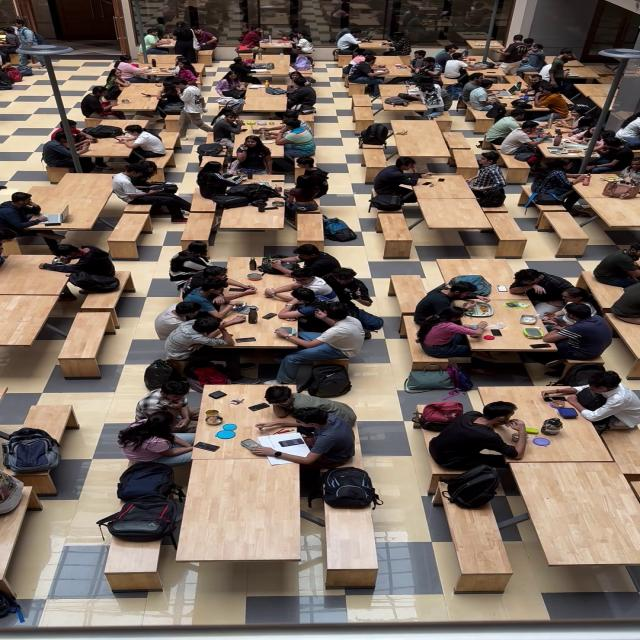Occupied: (390, 264, 582, 314), (372, 71, 518, 136), (435, 297, 580, 359), (190, 384, 305, 460), (251, 405, 356, 472), (429, 404, 525, 472), (167, 338, 349, 372), (552, 369, 640, 435), (257, 383, 357, 432), (117, 412, 199, 469), (110, 165, 190, 222), (428, 461, 536, 501), (40, 244, 117, 291), (2, 429, 55, 496), (136, 380, 201, 431), (508, 137, 584, 180), (57, 320, 111, 380), (138, 58, 202, 108), (78, 136, 150, 179), (0, 256, 73, 296), (268, 244, 340, 282), (86, 116, 175, 146), (169, 242, 237, 281), (372, 156, 434, 198), (182, 278, 256, 312), (378, 89, 442, 128), (42, 129, 100, 172), (0, 193, 53, 240), (531, 162, 584, 209), (196, 161, 251, 202), (320, 265, 374, 305), (280, 170, 326, 216), (498, 122, 552, 160), (466, 155, 507, 205), (489, 92, 552, 124), (101, 90, 164, 121), (273, 119, 315, 165), (510, 70, 557, 111), (230, 136, 274, 176), (482, 112, 530, 146), (241, 83, 291, 114), (410, 336, 467, 363), (80, 87, 123, 121), (292, 358, 350, 383), (416, 401, 464, 431), (153, 80, 186, 121), (214, 71, 251, 106), (554, 362, 606, 386), (226, 257, 275, 282), (284, 80, 318, 116), (212, 110, 247, 144), (539, 53, 572, 89), (511, 43, 547, 76), (534, 88, 572, 119), (114, 55, 155, 83), (49, 120, 89, 148), (228, 58, 267, 86), (460, 75, 493, 108), (68, 272, 120, 292), (6, 18, 40, 48), (499, 35, 531, 64), (166, 58, 199, 86), (450, 275, 492, 297), (323, 216, 357, 242), (350, 52, 383, 78), (466, 67, 511, 85), (576, 387, 608, 412), (473, 186, 506, 208), (442, 55, 471, 80), (562, 66, 602, 84), (192, 366, 229, 385), (336, 25, 362, 52), (434, 45, 462, 70), (191, 27, 218, 52), (241, 120, 283, 136), (360, 123, 390, 145), (304, 173, 330, 198), (257, 40, 297, 56), (0, 28, 21, 58), (245, 184, 281, 201), (214, 194, 252, 210), (409, 50, 434, 74), (420, 86, 445, 110), (238, 27, 264, 50), (369, 194, 404, 211), (140, 68, 179, 83), (142, 30, 165, 54), (82, 125, 124, 138), (259, 254, 291, 271), (289, 33, 313, 54), (356, 42, 392, 56), (464, 40, 502, 52), (387, 38, 412, 56), (285, 199, 319, 212), (484, 102, 508, 120), (442, 85, 462, 106), (147, 18, 167, 38), (275, 30, 299, 46), (23, 29, 47, 45), (197, 142, 224, 156), (104, 71, 122, 91), (410, 72, 440, 84), (149, 183, 179, 195), (222, 100, 245, 115), (384, 95, 415, 106), (335, 42, 359, 56), (2, 66, 22, 82), (498, 61, 520, 75), (293, 56, 313, 71), (294, 104, 317, 116), (221, 88, 246, 99), (162, 102, 184, 114), (406, 85, 424, 99), (396, 93, 421, 102), (468, 61, 492, 70), (237, 46, 262, 54), (16, 65, 34, 76), (215, 98, 238, 106), (192, 32, 202, 50), (252, 62, 274, 70), (265, 87, 286, 95), (562, 53, 574, 60), (462, 50, 470, 57), (306, 78, 313, 84), (335, 50, 339, 56)
Unoccupied: (414, 370, 639, 591), (515, 460, 640, 568), (174, 458, 301, 564), (481, 382, 618, 461), (274, 320, 384, 399), (438, 479, 514, 592), (322, 493, 378, 590), (568, 175, 640, 242), (154, 307, 247, 350), (102, 531, 165, 591), (0, 488, 33, 600), (413, 280, 484, 330), (390, 121, 454, 170), (220, 200, 292, 235), (265, 268, 337, 302), (483, 210, 532, 257), (511, 269, 577, 303), (537, 210, 589, 253), (602, 418, 640, 475), (215, 202, 284, 232), (592, 246, 640, 289), (537, 293, 595, 328), (107, 212, 153, 256), (22, 404, 78, 437), (378, 214, 414, 258), (424, 202, 483, 228), (80, 280, 130, 310), (570, 82, 613, 114), (179, 212, 219, 246), (389, 275, 429, 306), (446, 142, 478, 176), (360, 147, 390, 183), (187, 181, 221, 212), (614, 111, 640, 149), (295, 212, 324, 243), (198, 156, 230, 172)
